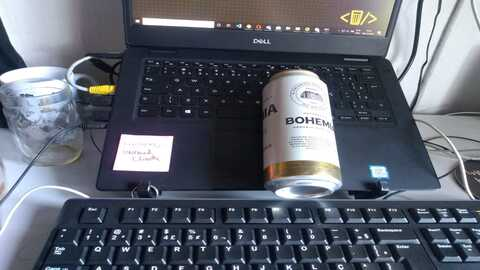bohemia: (258, 68, 345, 194)
